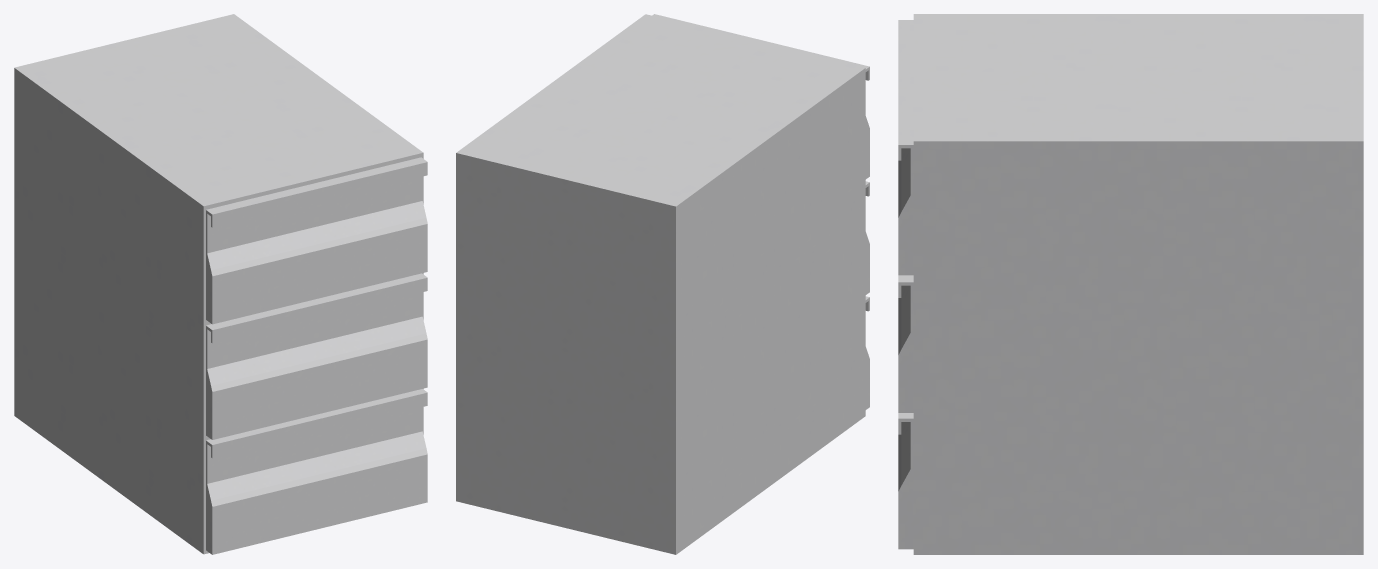
Rendered from Drawer43.fbx.
The picture shows the model from 3 angles, left to right: view 1: azimuth 30°, elevation 25°; view 2: azimuth 150°, elevation 25°; view 3: azimuth 270°, elevation 25°; orthographic projection. The views are drawn at different scales.
Parts seen in each view (by area): view 1: Drawer43_Body, Drawer43_1, Drawer43_2, Drawer43_3; view 2: Drawer43_Body, Drawer43_1; view 3: Drawer43_Body, Drawer43_1, Drawer43_2, Drawer43_3.
Part boxes in pixels (x1=…): Drawer43_Body: x1=14, y1=14, x2=423, y2=554; Drawer43_1: x1=206, y1=157, x2=427, y2=324; Drawer43_2: x1=206, y1=273, x2=427, y2=439; Drawer43_3: x1=206, y1=389, x2=427, y2=554; Drawer43_Body: x1=456, y1=14, x2=865, y2=554; Drawer43_1: x1=652, y1=14, x2=869, y2=179; Drawer43_Body: x1=913, y1=14, x2=1363, y2=554; Drawer43_1: x1=898, y1=20, x2=913, y2=275; Drawer43_2: x1=898, y1=275, x2=913, y2=412; Drawer43_3: x1=898, y1=413, x2=913, y2=549.
Bounding box in the file's own units: 48.28 × 73.04 × 74.52.
